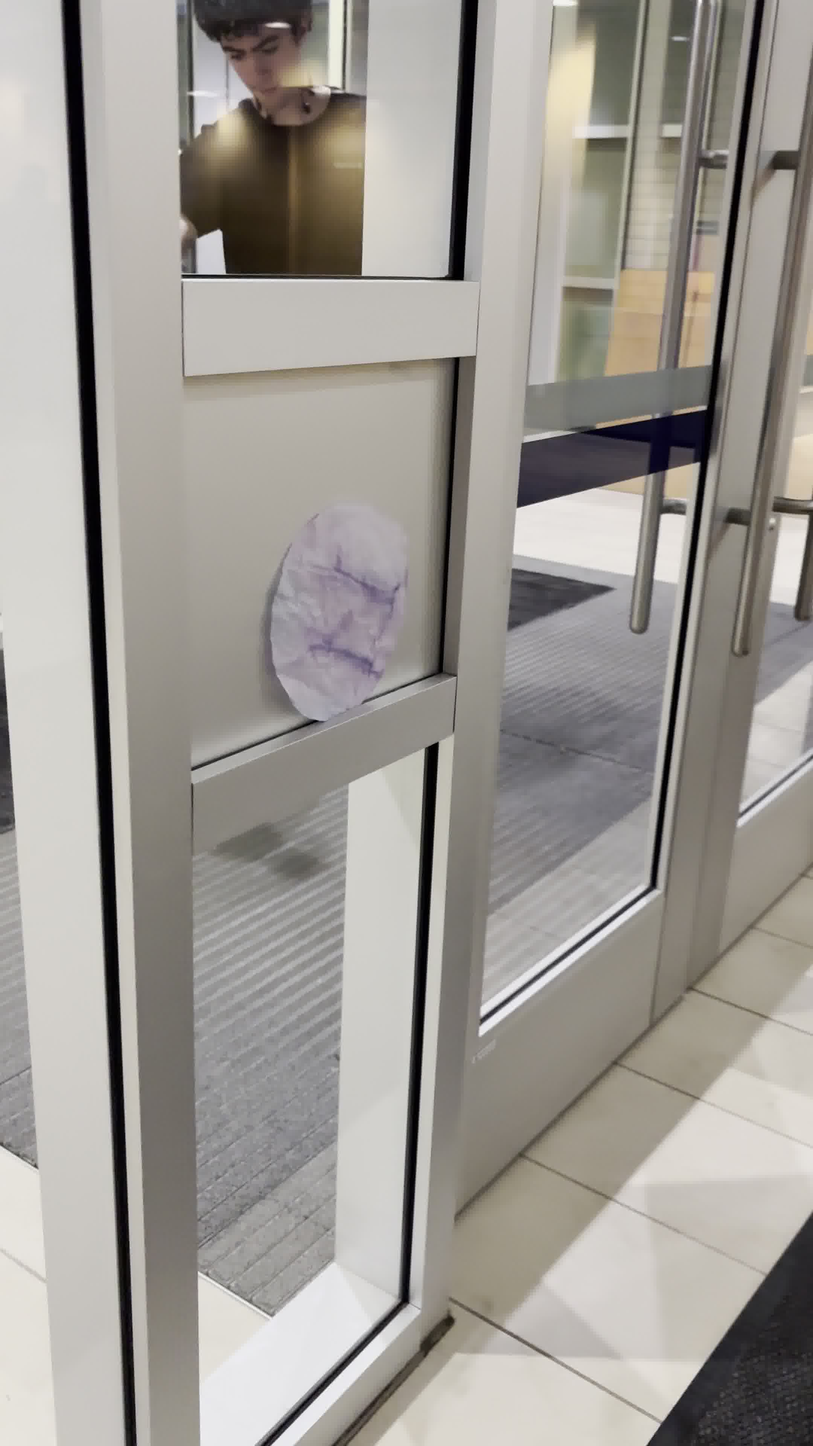Target: (254, 497, 418, 726)
